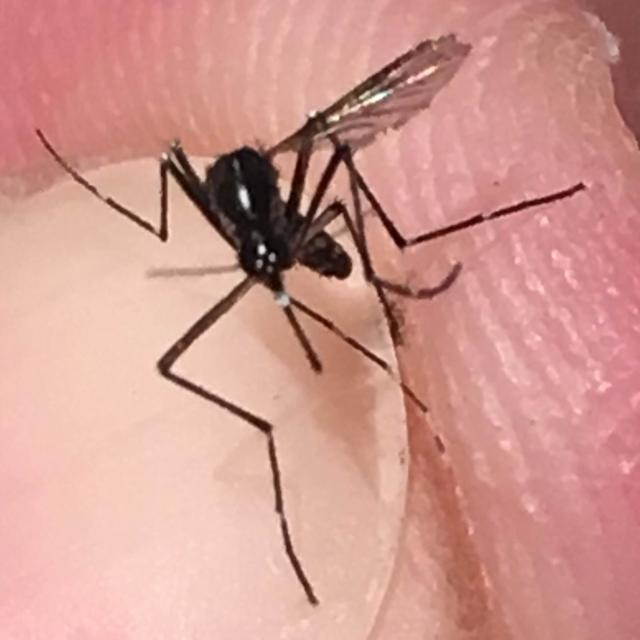albopictus: (42, 37, 584, 616)
